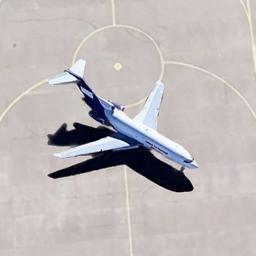Airplane: (46, 57, 199, 192)
